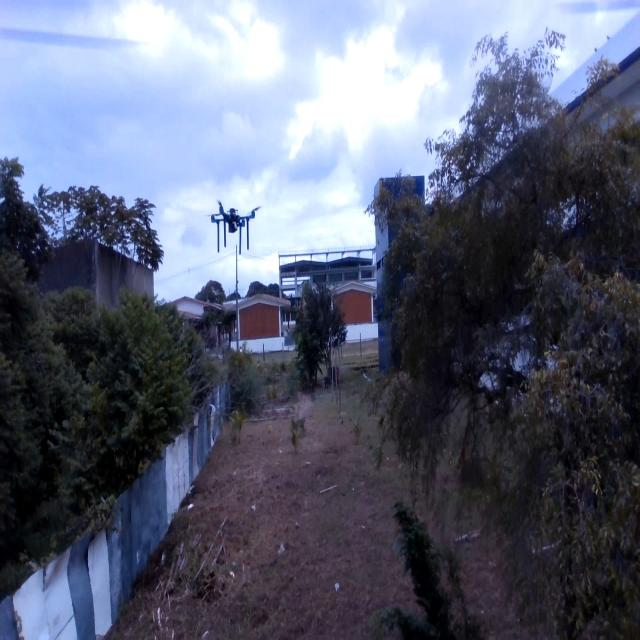-uav-: (202, 190, 268, 259)
